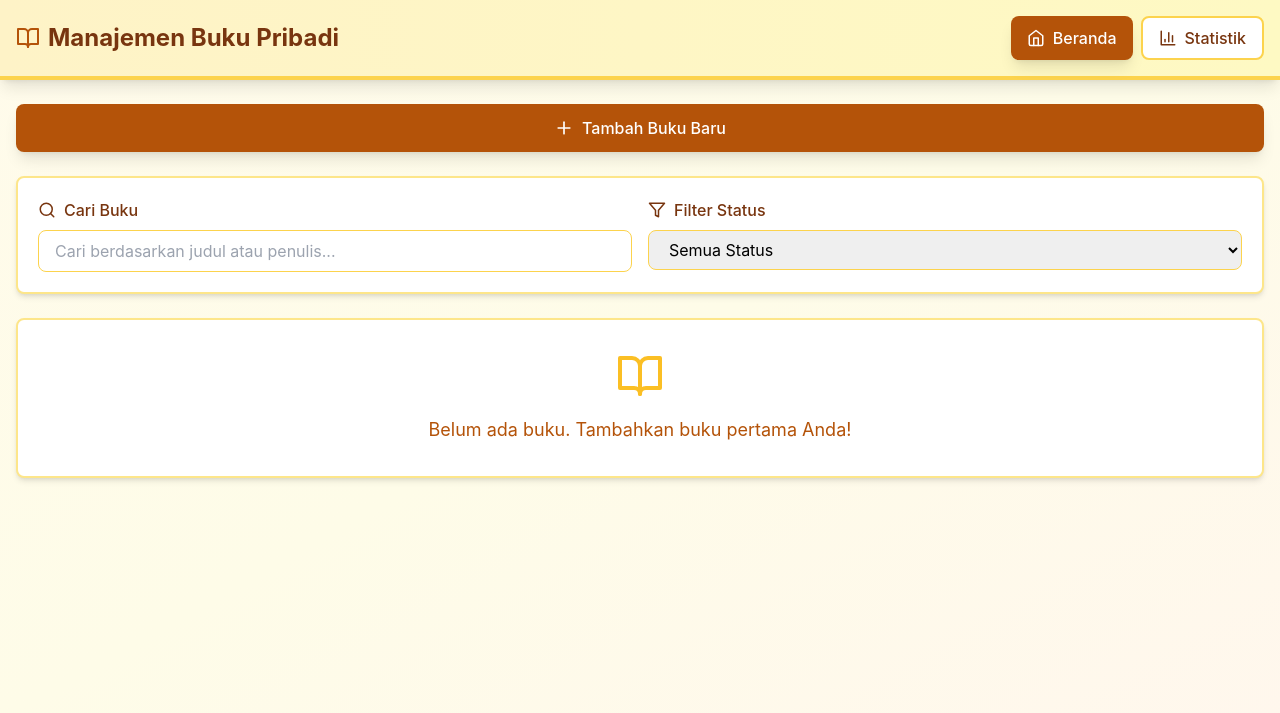
Test: berhasil menambah buku dengan data yang valid
# Buka form
Step 1. Click the button "Tambah Buku Baru" → [640, 128], box [16,104,1264,152]
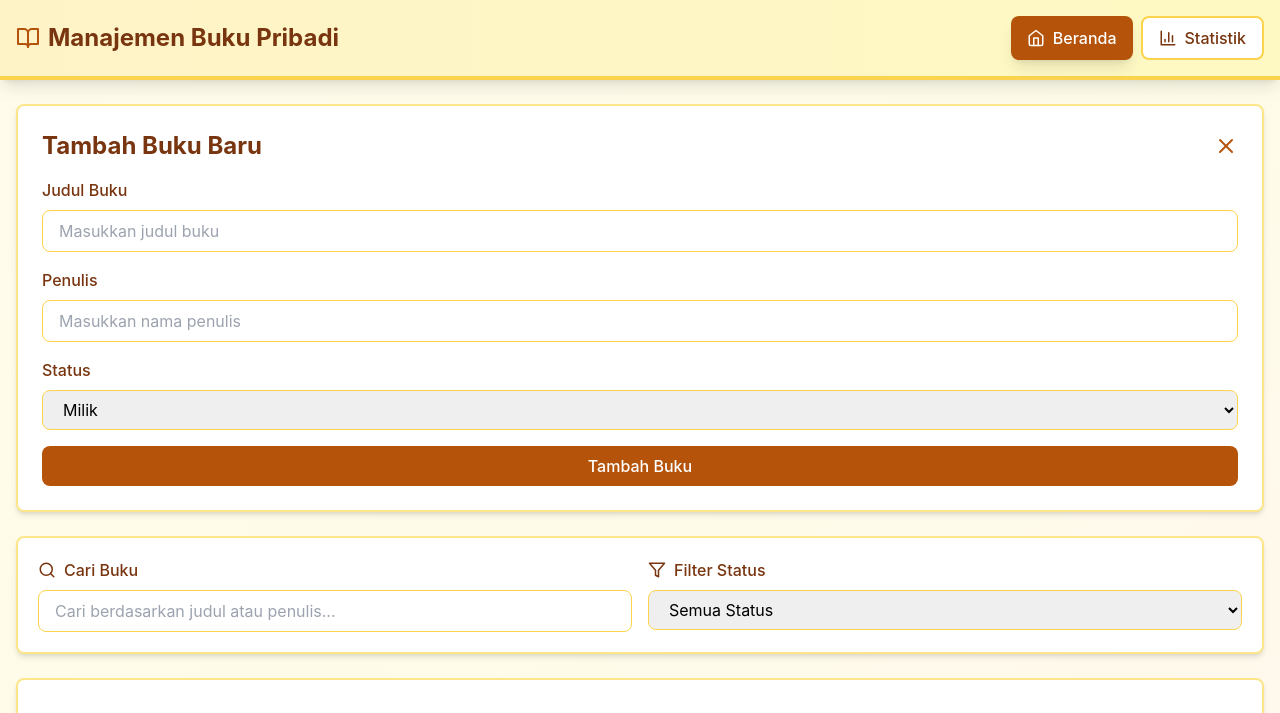
Step 2. Type "Harry Potter" into the field with placeholder "Masukkan judul buku" → [640, 231], box [42,210,1238,252]
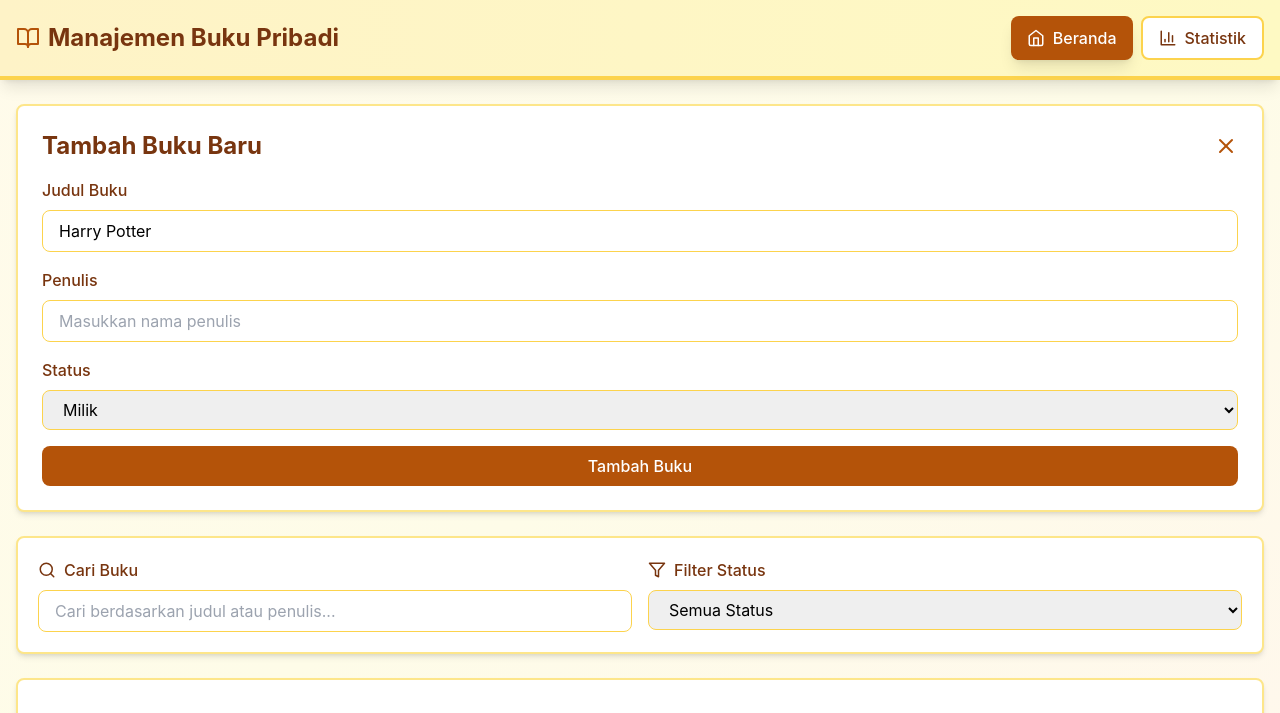
Step 3. Type "J.K. Rowling" into the field with placeholder "Masukkan nama penulis" → [640, 321], box [42,300,1238,342]
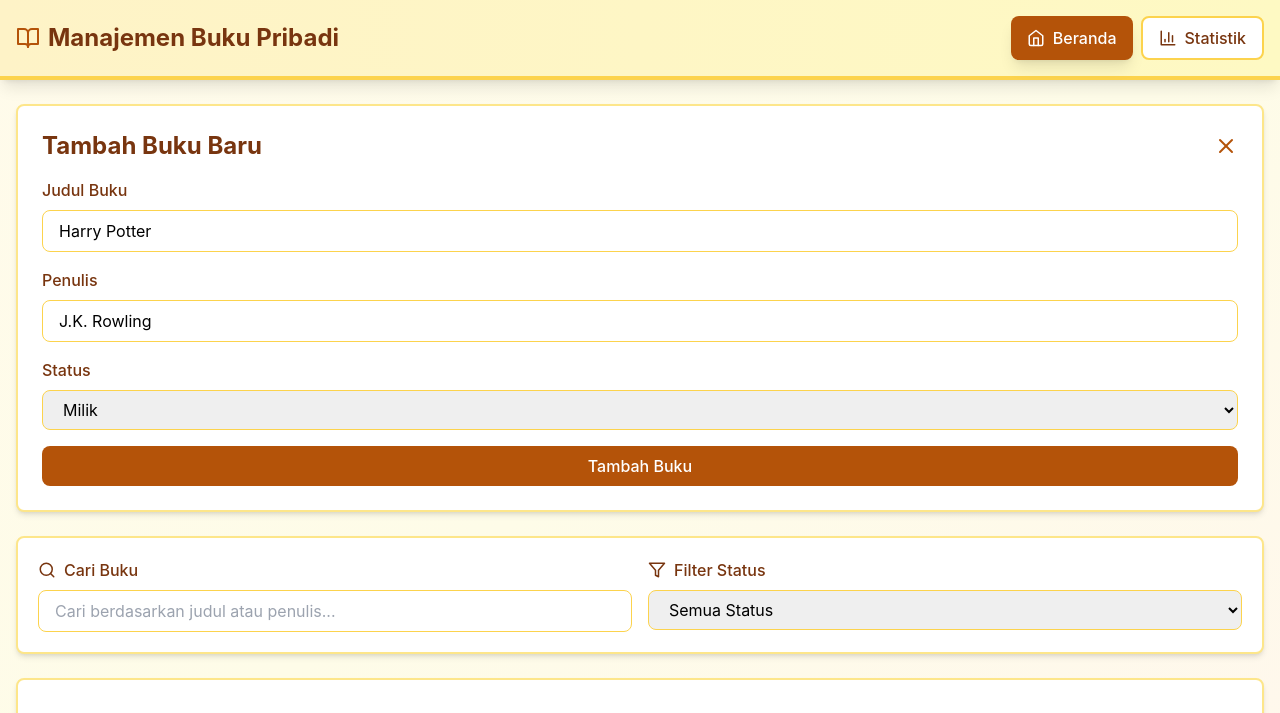
# Submit form
Step 4. Click the button "Tambah Buku" → [640, 466], box [42,446,1238,486]
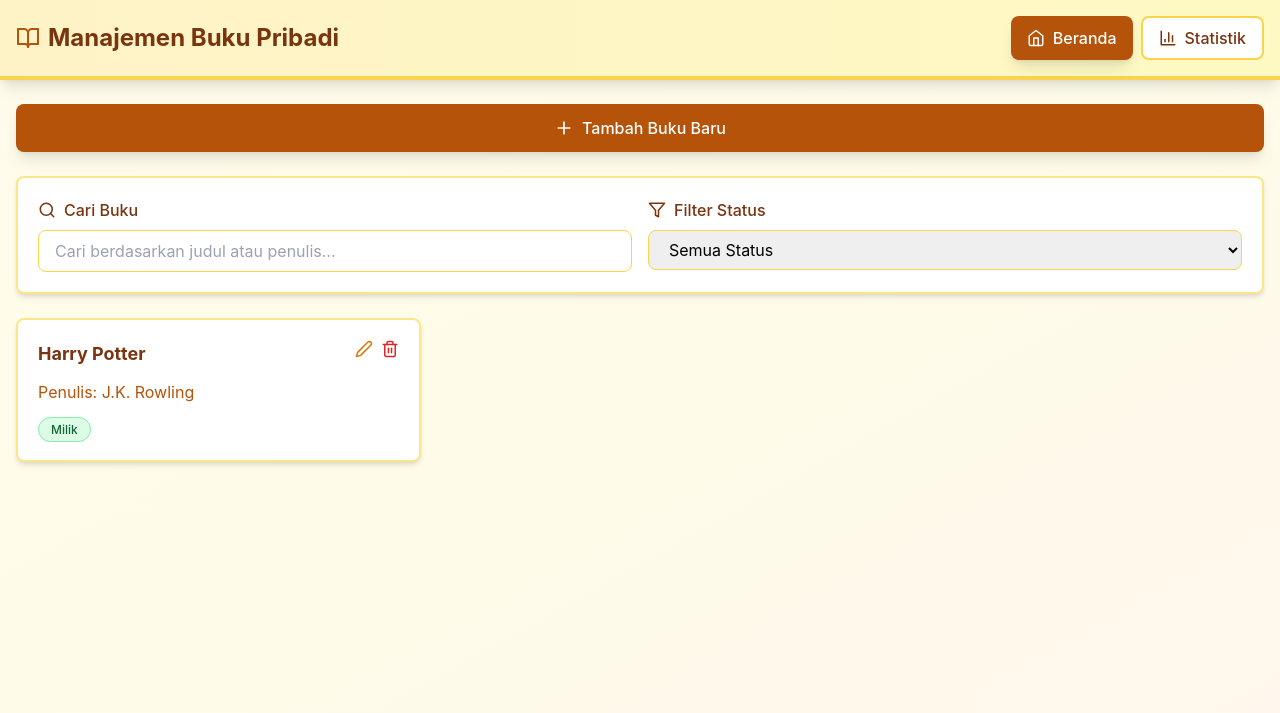
Now the heading "Harry Potter" is shown, box [38,343,146,364]
Now the text "Penulis: J.K. Rowling" is shown, box [38,382,194,402]
